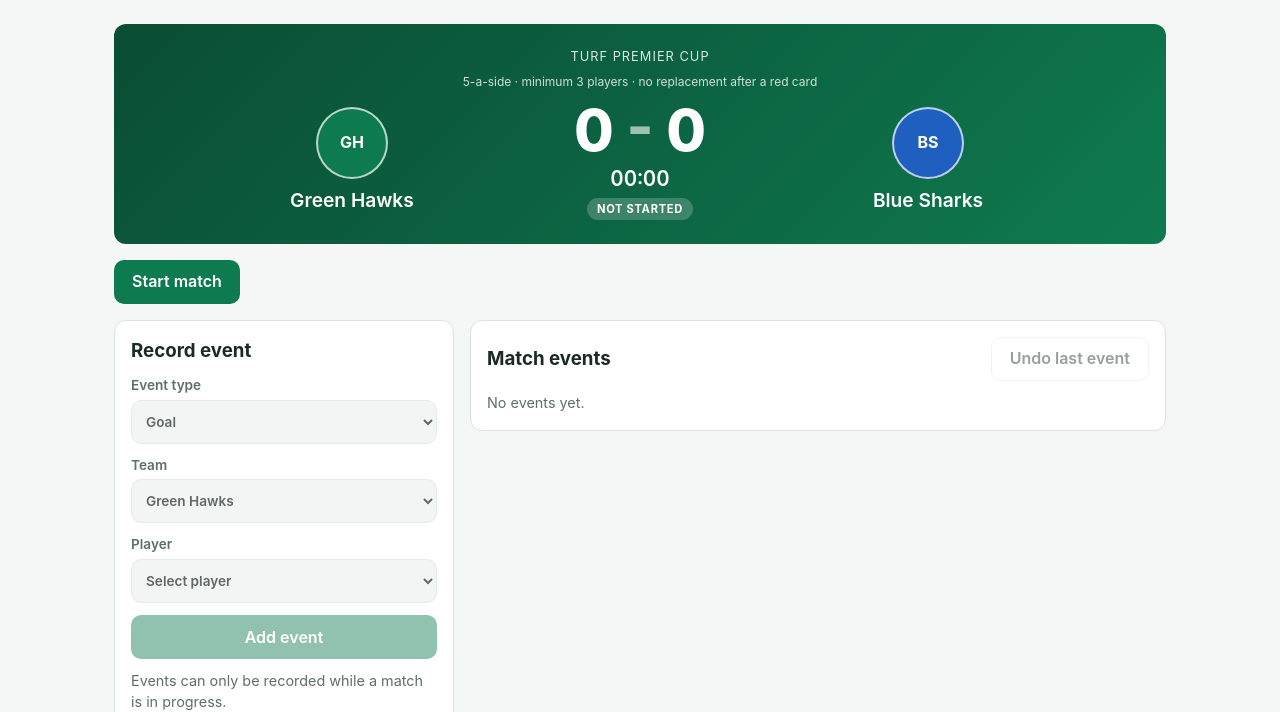
Test case: Match Centre: restoring a saved match › a match that was running comes back paused with its score and events
Click the button "Start match": (177, 282) [114,260,240,304]
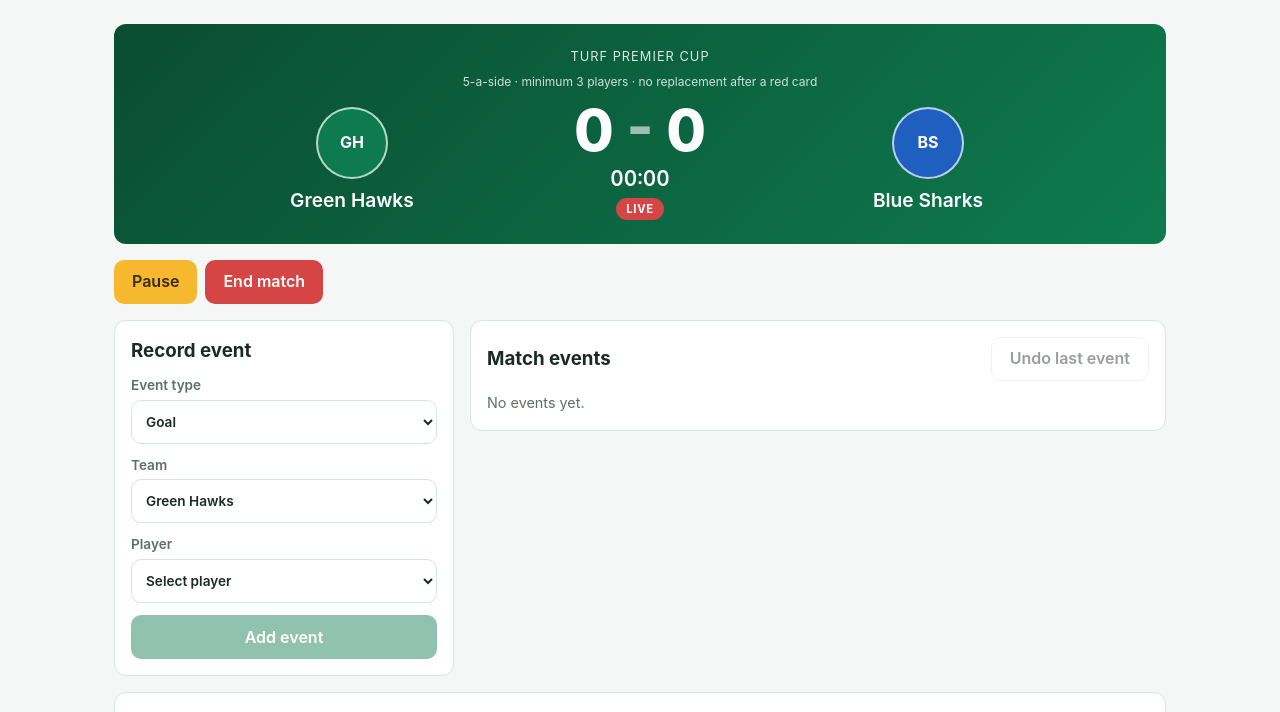
Select "Goal" in the dropdown labelled "Event type": (284, 422) [131,400,437,444]
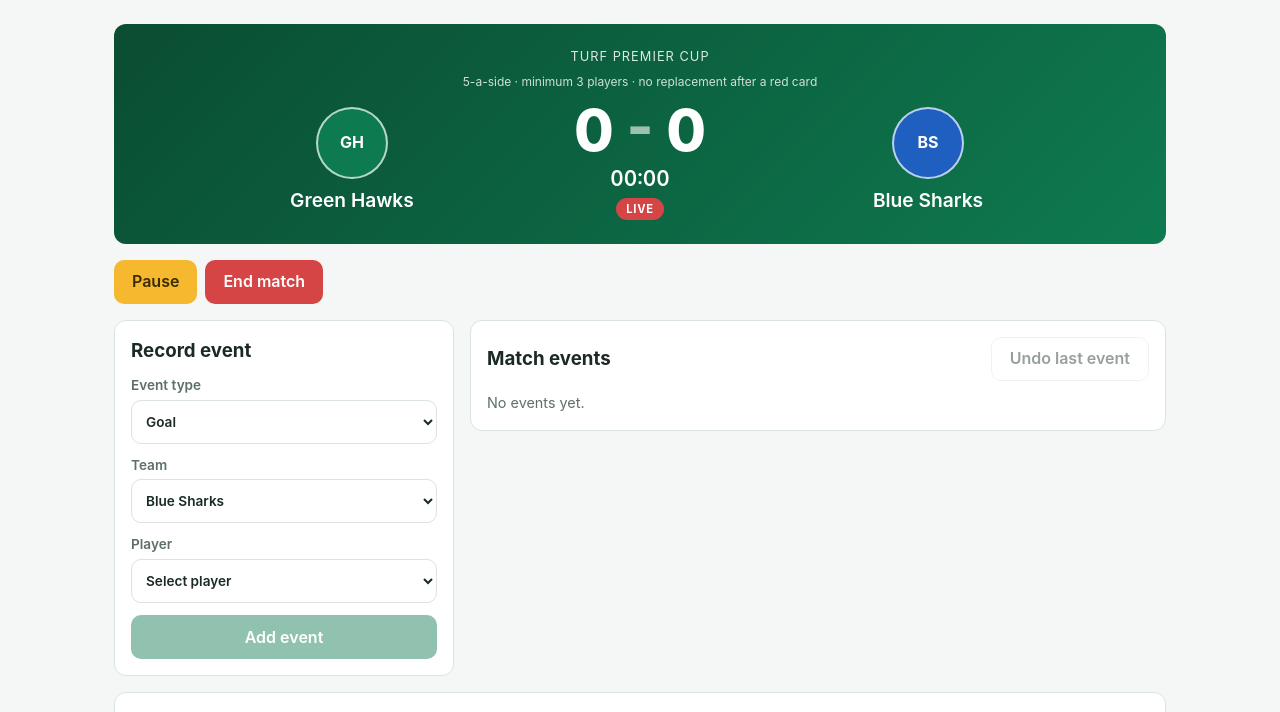
Select "Blue Sharks" in the dropdown labelled "Team": (284, 502) [131,480,437,524]
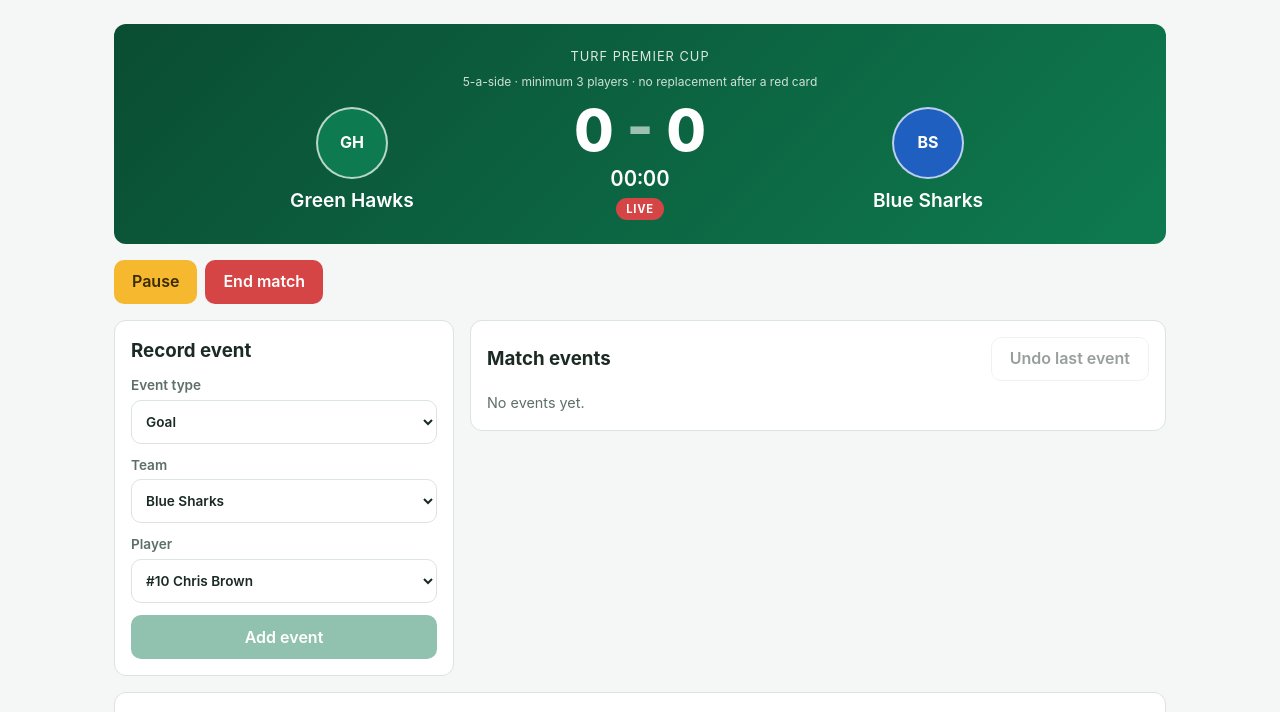
Select "#10 Chris Brown" in the dropdown labelled "Player": (284, 581) [131,559,437,603]
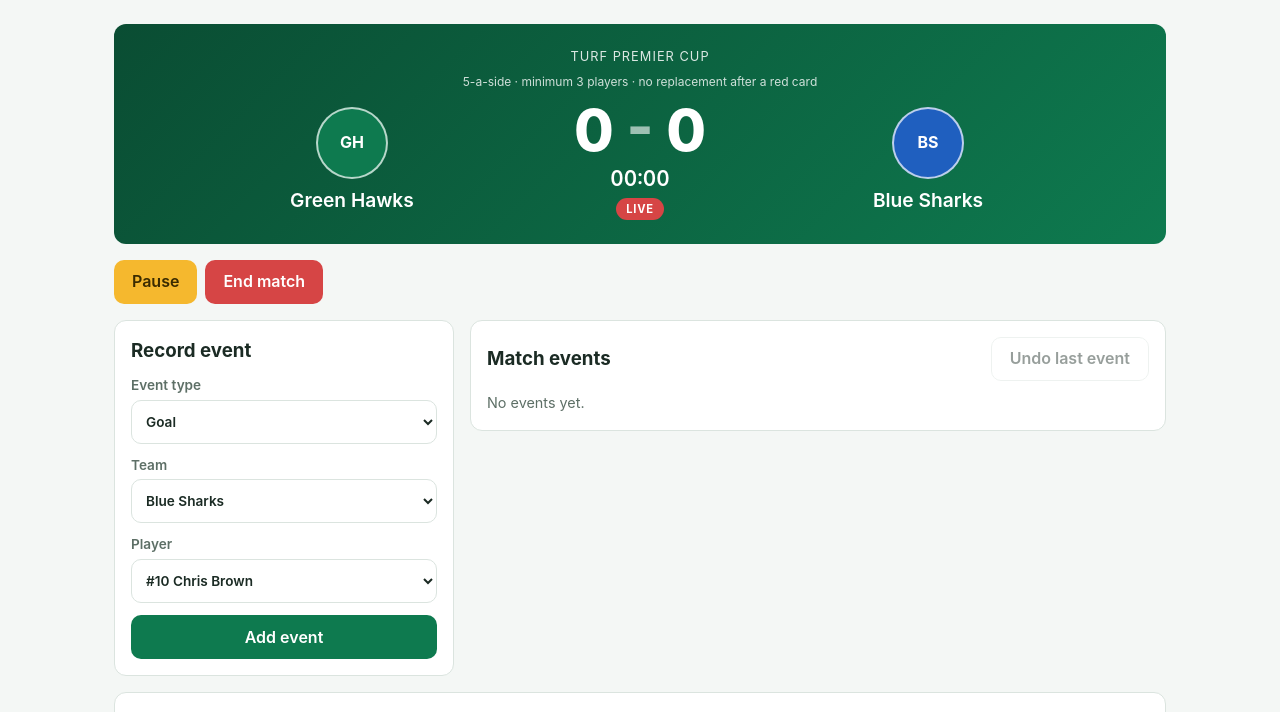
Click the button "Add event": (284, 637) [131,615,437,659]
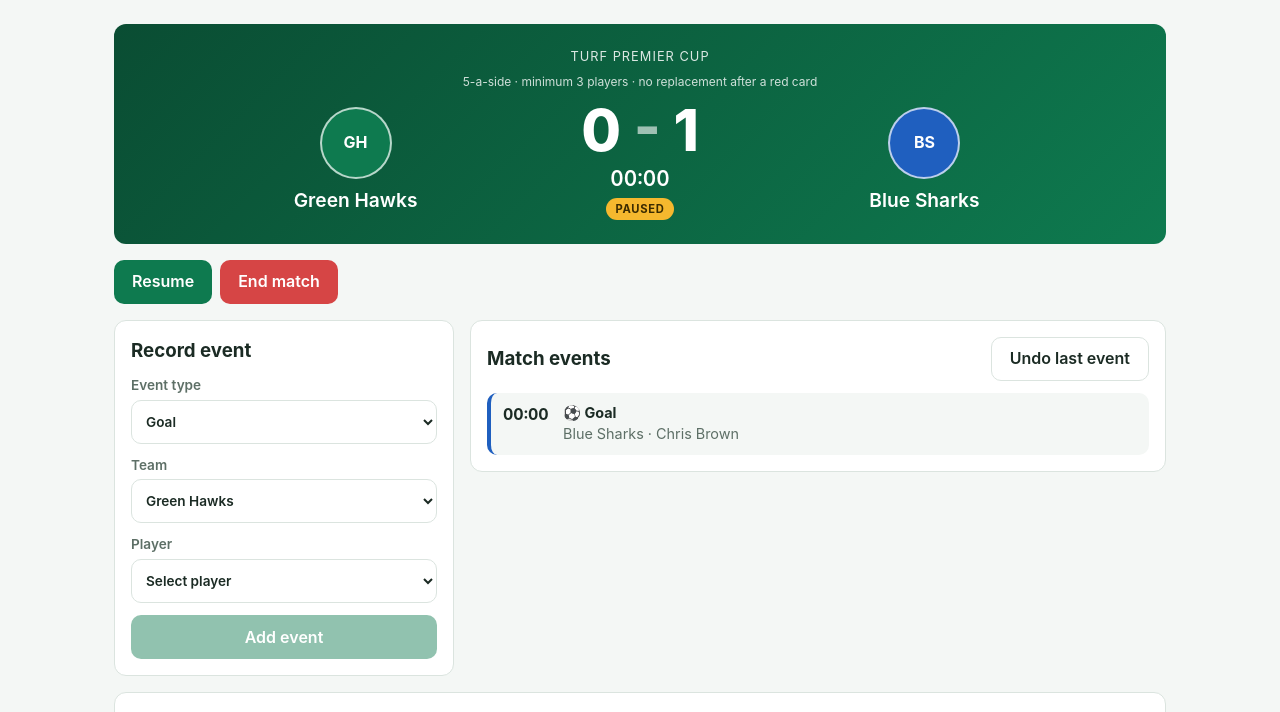
Expected: the text with class "status" reads "Paused", [616,202,664,216]
